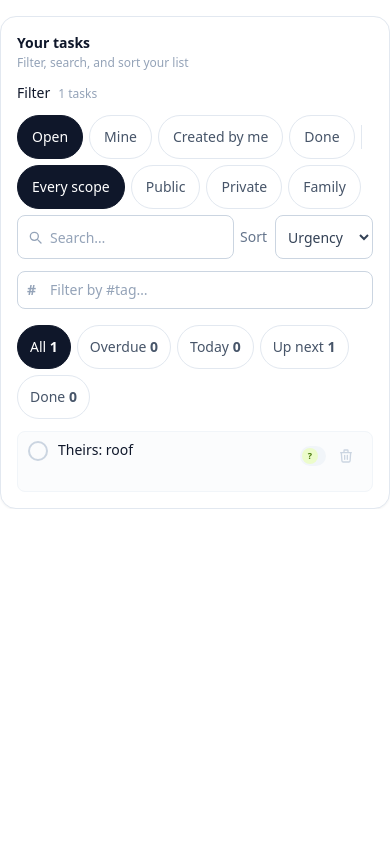
Test case: TasksMainList — the approved owner axis (tasks.html) › never claims an account has no tasks while a filter is switched on
What coordinates should you click on to do the following:
click the button "Created by me"
I would click on:
 (221, 137)
Its box is [158,115,283,159].
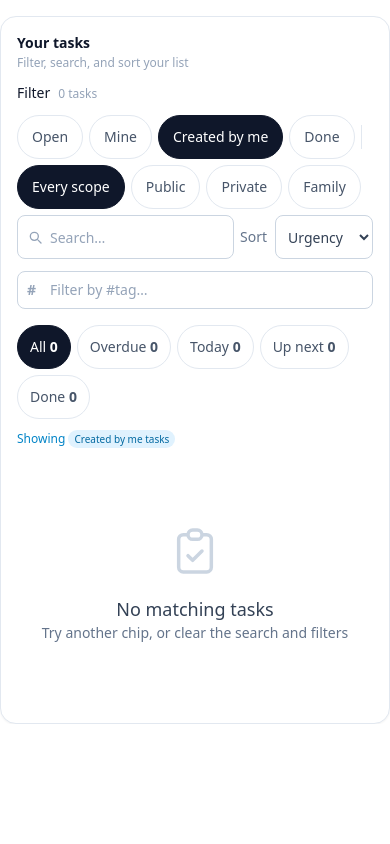
Now the text "No matching tasks" is shown, box [116,595,274,623]
